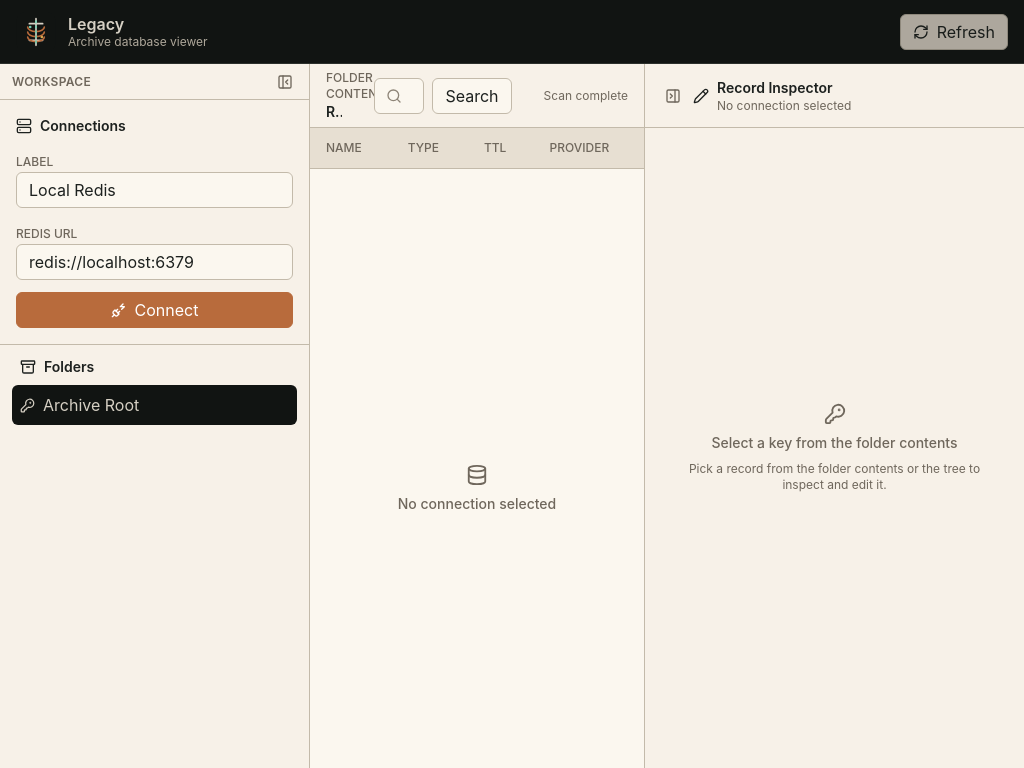
it: DatabaseWorkbench layout › collapses and expands the inspector panel
Expected: the heading "Record Inspector" is shown, [717, 78, 851, 98]
Click the button named "Collapse Inspector" at (673, 96), box [661, 84, 685, 108]
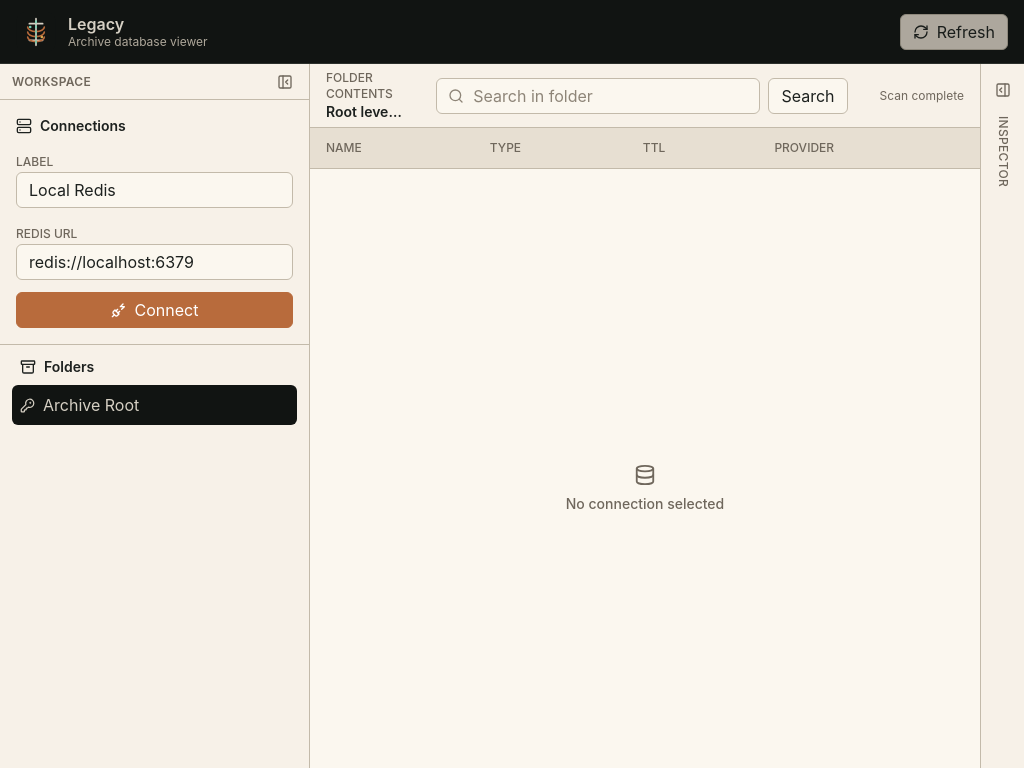
Expected: the heading "Record Inspector" is gone
Click the button named "Expand Inspector" at (1002, 90), box [988, 76, 1016, 104]
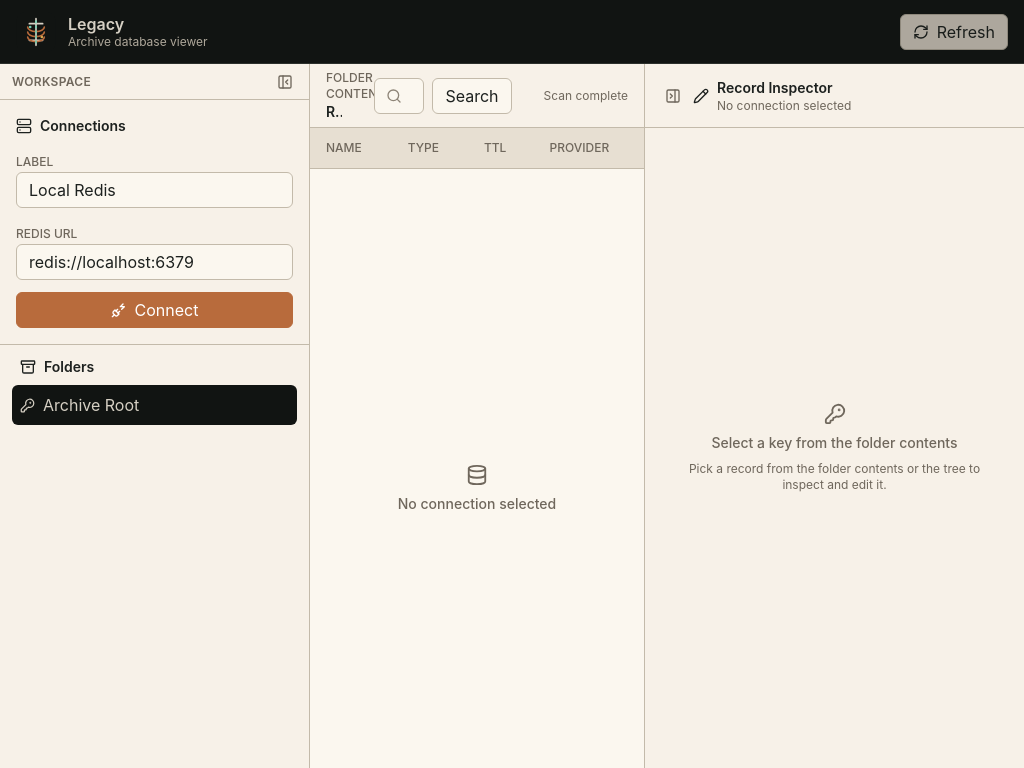
Expected: the heading "Record Inspector" is shown, [717, 78, 851, 98]
